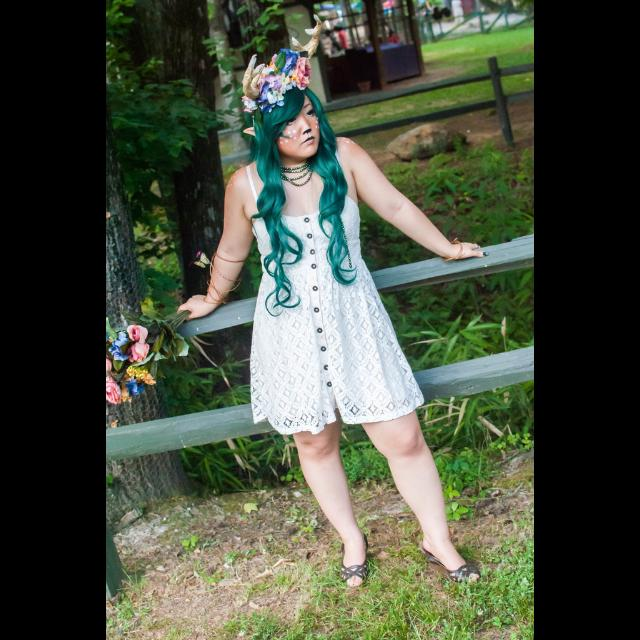Flower: (240, 48, 326, 114), (106, 319, 158, 406)
